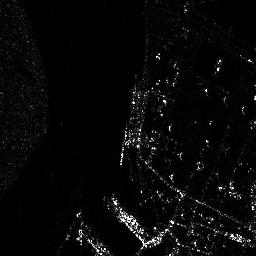ship: (108, 196, 149, 237)
